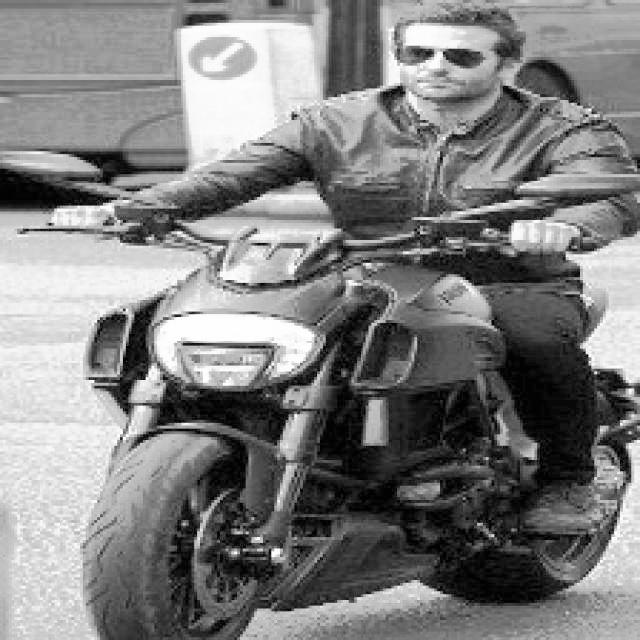Bike: (42, 216, 632, 638)
